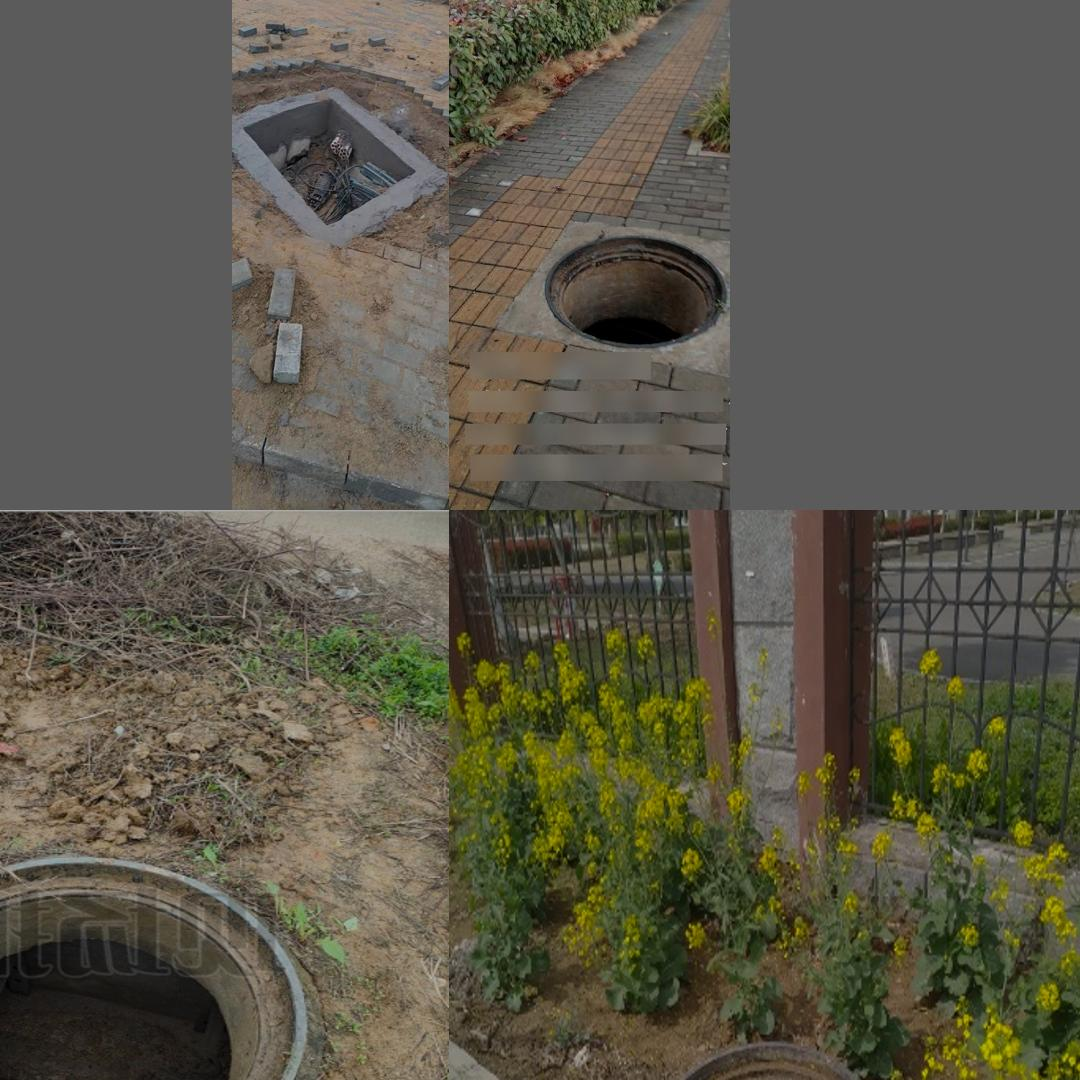lose: (0, 848, 327, 1080), (239, 76, 439, 227), (545, 233, 730, 349), (644, 1039, 883, 1080)
